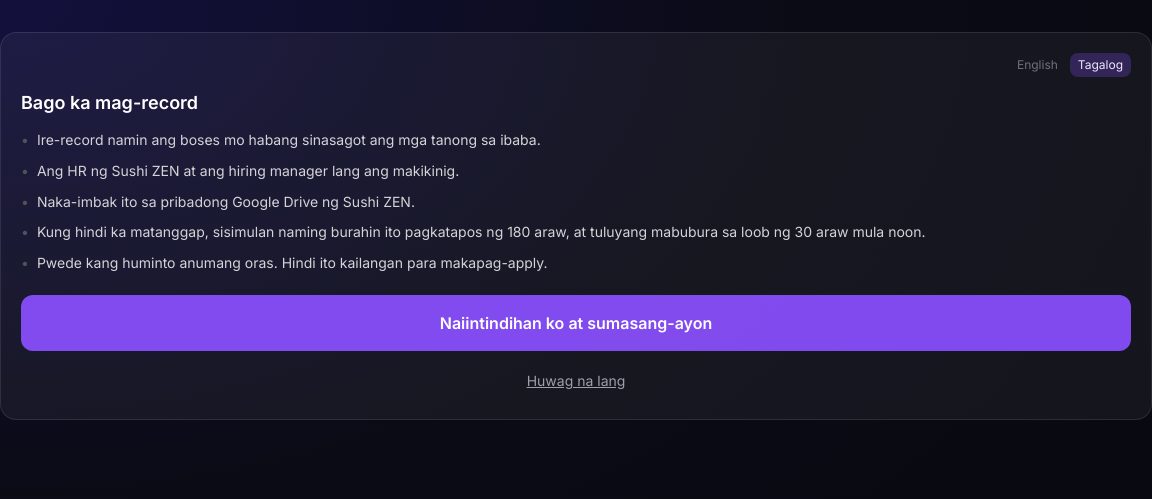
agreeing while the API is restarting › says it in Tagalog too
The image size is (1152, 499).
Click the button "Naiintindihan ko at sumasang-ayon" at (576, 323), box left=21, top=295, right=1131, bottom=351
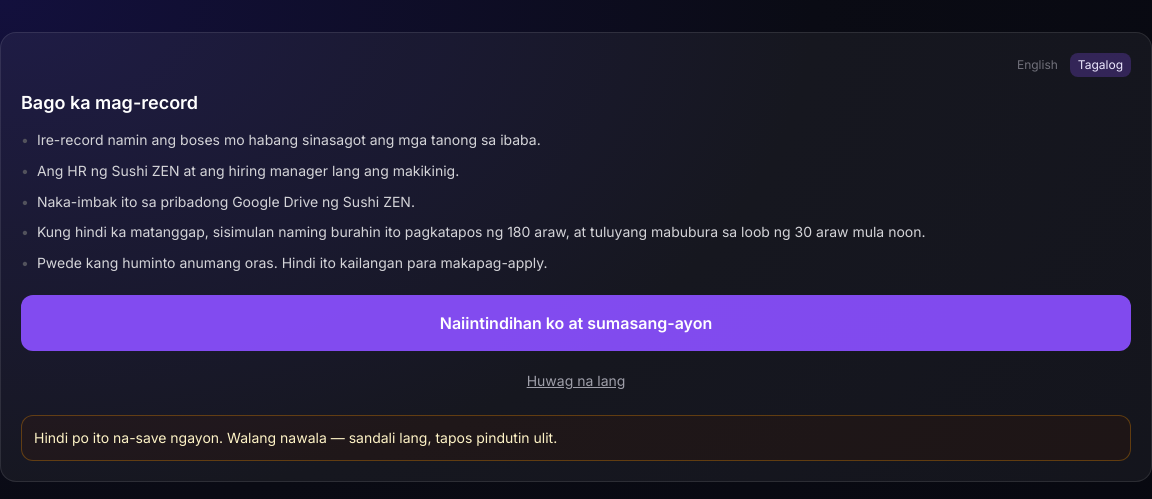
Now the text "Walang nawala" is shown, box left=34, top=429, right=557, bottom=446
